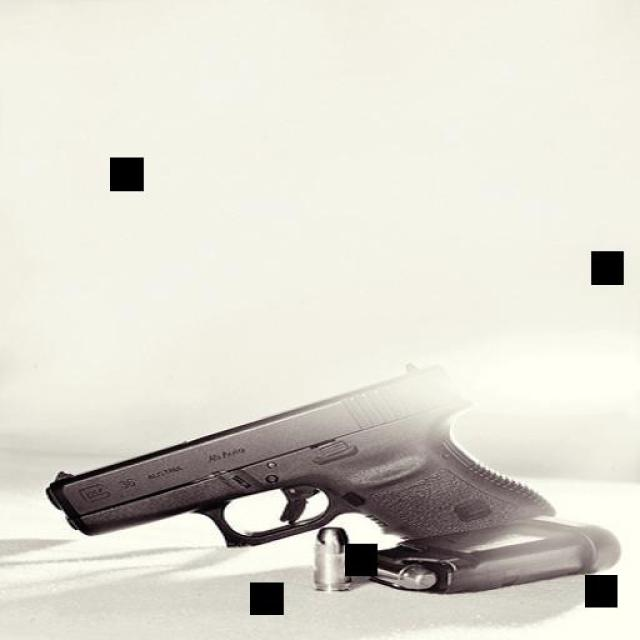gun: (17, 360, 555, 548)
